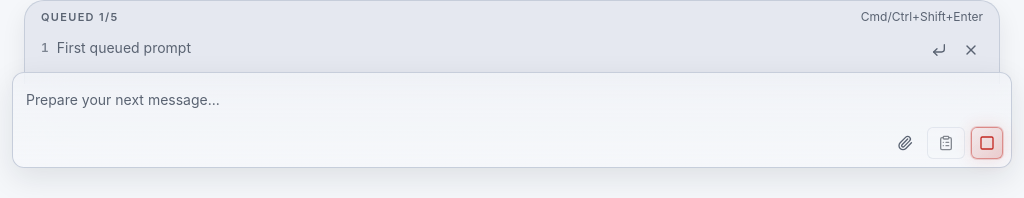
Test: a lost deletion response leaves a durable copy and reports the uncertainty
Click the button named "Move queued message 1 to composer".
click(939, 50)  # box [927,38,951,62]
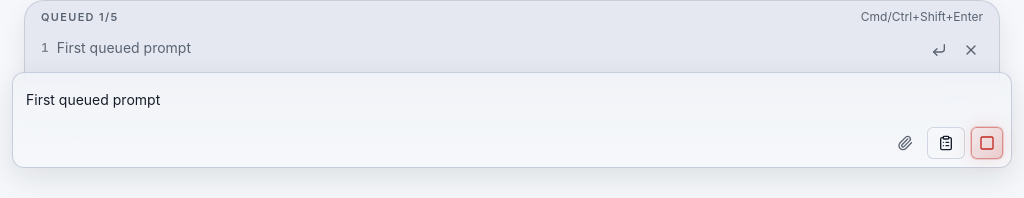
Expected: the text "First queued prompt" is shown, [57,38,191,56]
Expected: the text box named "Prompt" holds "First queued prompt", [21,80,1003,118]
